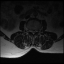CCS_normal: (32, 28, 34, 36)
LFS_stenosis: (36, 28, 38, 33)
LLS_normal: (34, 28, 36, 34)
RFS_normal: (29, 28, 31, 33)
RLS_normal: (31, 28, 32, 34)
